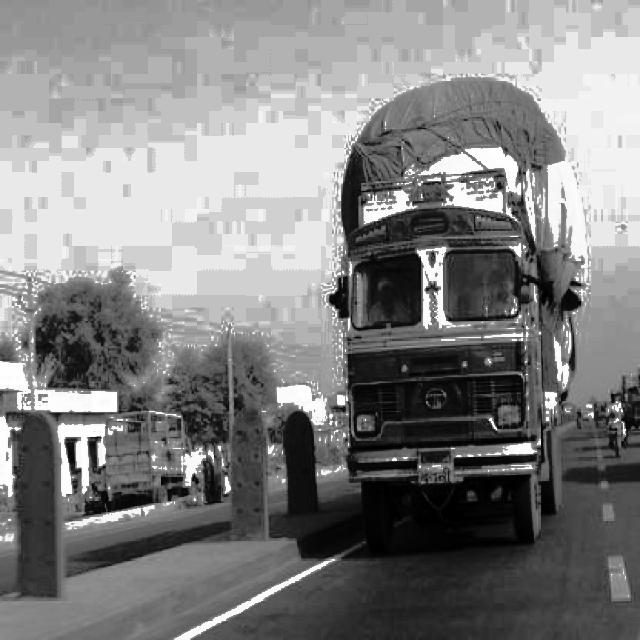HCV: (336, 114, 556, 535)
